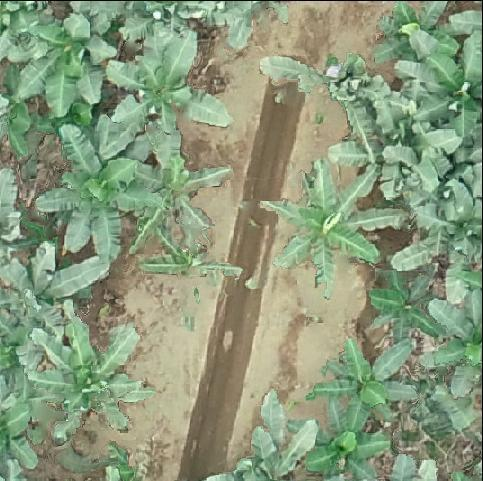Banana-plant: (259, 162, 406, 300), (258, 41, 416, 165), (34, 125, 159, 263), (25, 319, 155, 438), (100, 30, 230, 133), (393, 170, 483, 309), (13, 5, 121, 117), (304, 333, 418, 436), (0, 245, 114, 338), (393, 22, 483, 136), (131, 152, 233, 250), (419, 288, 483, 400), (367, 268, 446, 348), (370, 0, 460, 66), (300, 428, 392, 481)
